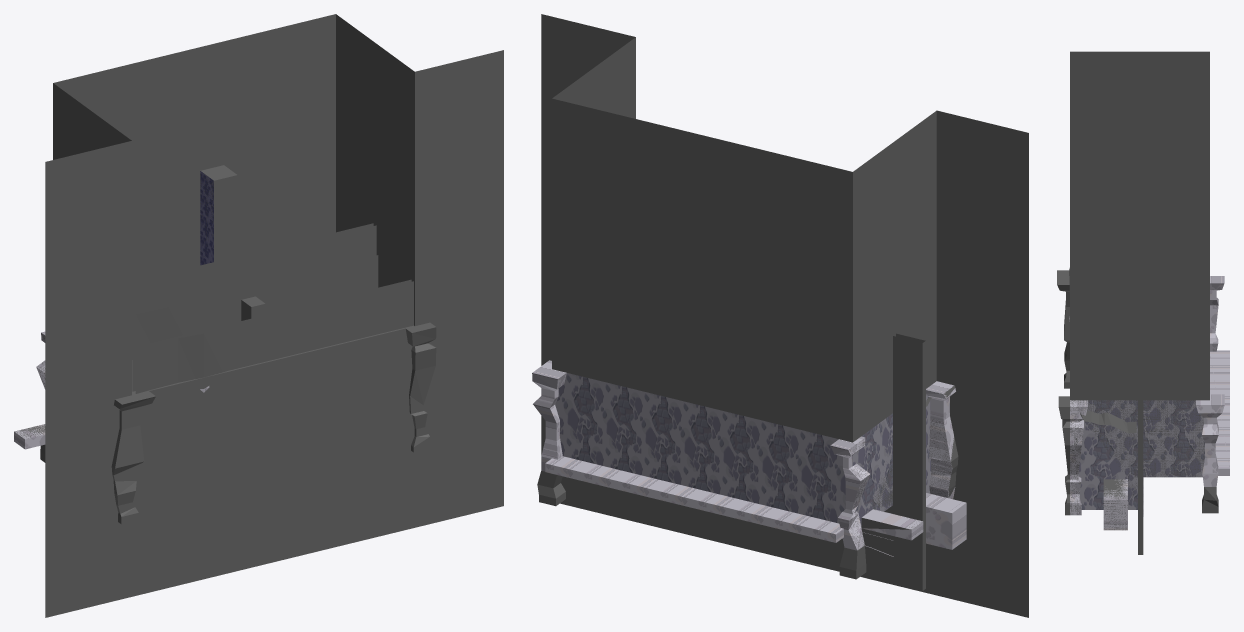
The model's file is jin_07_bake.dae.
3 renders of one model, left to right at view 1: azimuth 30°, elevation 25°; view 2: azimuth 150°, elevation 25°; view 3: azimuth 270°, elevation 25°, orthographic. The views are drawn at different scales.
Parts seen in each view (by area): view 1: Masuku, A_kabe_mae, a_hari, S_kabe_oku_part1, S_kabe_r_part1, a_gawa02, a_hasira, A_ten, S_ana; view 2: Masuku, S_kabe_oku_part1, S_kabe_oku_part0, a_gawa02, S_kabe_l_part1, S_hasi, S_futi_oku, S_kabe_l_part0, a_hasira, polySurface898, polySurface900, A_kabe_l; view 3: Masuku, S_kabe_r_part1, S_kabe_r_part0, A_kabe_r, S_kabe_l_part1, S_hasi, a_hasira, S_futi_oku, a_gawa02, polySurface896, a_hari.
Boxes of the visible parts, <box> form: Masuku: <box>45,14,503,617</box>; A_kabe_mae: <box>133,328,414,516</box>; a_hari: <box>132,255,413,393</box>; S_kabe_oku_part1: <box>132,120,335,281</box>; S_kabe_r_part1: <box>336,121,414,325</box>; a_gawa02: <box>132,223,376,315</box>; a_hasira: <box>37,322,436,524</box>; A_ten: <box>132,165,414,395</box>; S_ana: <box>200,171,213,265</box>; Masuku: <box>541,14,1028,617</box>; S_kabe_oku_part1: <box>552,212,852,442</box>; S_kabe_oku_part0: <box>555,373,852,523</box>; a_gawa02: <box>562,333,925,590</box>; S_kabe_l_part1: <box>853,224,936,441</box>; S_hasi: <box>532,360,955,550</box>; S_futi_oku: <box>545,456,843,542</box>; S_kabe_l_part0: <box>853,394,930,527</box>; a_hasira: <box>537,385,958,579</box>; polySurface898: <box>926,493,966,549</box>; polySurface900: <box>862,509,923,540</box>; A_kabe_l: <box>861,397,928,529</box>; Masuku: <box>1070,51,1209,268</box>; S_kabe_r_part1: <box>1070,268,1209,400</box>; S_kabe_r_part0: <box>1078,400,1204,509</box>; A_kabe_r: <box>1086,400,1204,530</box>; S_kabe_l_part1: <box>1070,146,1209,174</box>; S_hasi: <box>1070,276,1224,515</box>; a_hasira: <box>1057,270,1218,515</box>; S_futi_oku: <box>1210,350,1229,475</box>; a_gawa02: <box>1138,347,1143,554</box>; polySurface896: <box>1103,479,1127,530</box>; a_hari: <box>1069,268,1137,433</box>.
Bounding box in the file's own units: 97.24 × 92.45 × 35.71.
